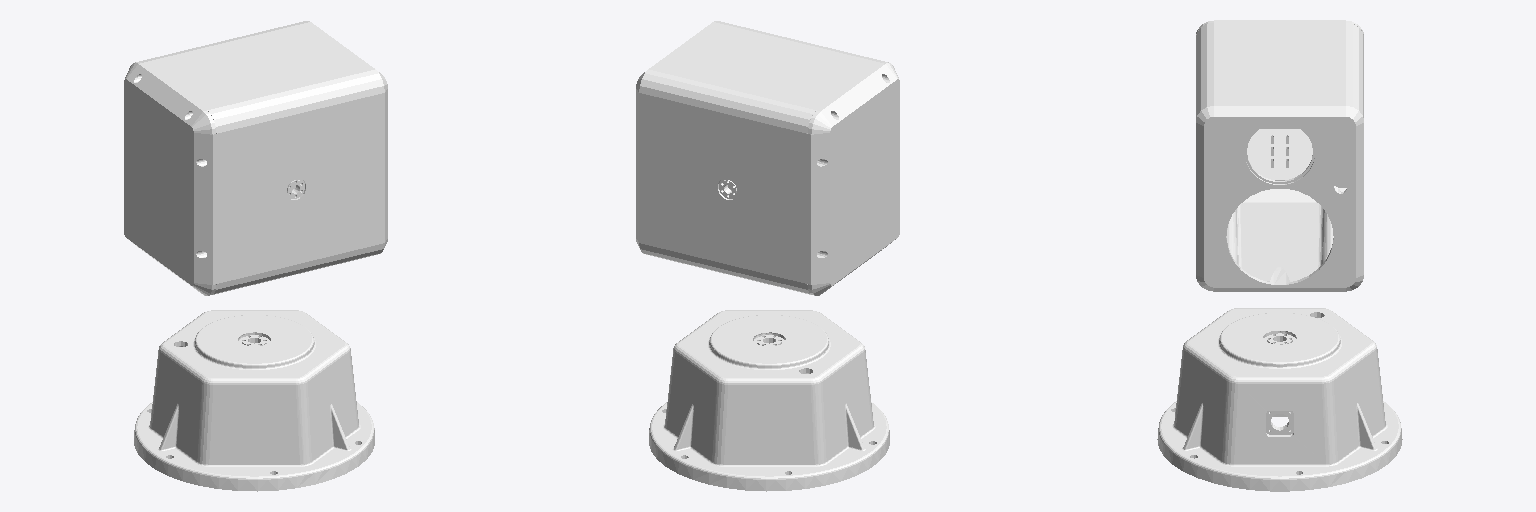
The robot description file, URDF, robot "u_shaped_gimbal":
<?xml version="1.0" encoding="utf-8"?>
<!-- This URDF was automatically created by SolidWorks to URDF Exporter! Originally created by [author] ([email redacted]) 
    Commit Version: 1.6.0-1-g15f4949  Build Version: 1.6.7594.29634
    For more information, please see http://wiki.ros.org/sw_urdf_exporter -->
<robot name="u_shaped_gimbal">
  <!-- 虚拟根节点 -->
  <link name="root_link"/>

  <!-- root_link 到 base_link 的固定关节 -->
  <joint name="root_to_base" type="fixed">
    <parent link="root_link"/>
    <child link="base_link"/>
    <!-- 绕 X 轴 +90°，再绕 Z 轴 +90° -->
    <origin xyz="0 0 0" rpy="1.5708 0 1.5708"/>
  </joint>
  <link name="base_link">
    <inertial>
      <origin xyz="-5.1149E-05 0.060823 -0.0052465" rpy="0 0 0" />
      <mass value="0.94384" />
      <inertia ixx="0.0055172" ixy="2.4725E-06" ixz="-3.088E-06" iyy="0.008072" iyz="4.4757E-05" izz="0.0055356" />
    </inertial>
    <visual>
      <origin xyz="0 0 0" rpy="0 0 0" />
      <geometry>
        <mesh filename="package://u_shaped_gimbal_description/meshes/base_link.STL" />
      </geometry>
      <material name="">
        <color rgba="1 1 1 1" />
      </material>
    </visual>
    <collision>
      <origin xyz="0 0 0" rpy="0 0 0" />
      <geometry>
        <mesh filename="package://u_shaped_gimbal_description/meshes/base_link.STL" />
      </geometry>
    </collision>
  </link>
  <link name="link_low">
    <inertial>
      <origin xyz="3.7576E-07 0.10889 4.3526E-05" rpy="0 0 0" />
      <mass value="1.7017" />
      <inertia ixx="0.01372" ixy="-2.5357E-06" ixz="4.585E-06" iyy="0.010361" iyz="2.6097E-06" izz="0.016475" />
    </inertial>
    <visual>
      <origin xyz="0 0 0" rpy="0 0 0" />
      <geometry>
        <mesh filename="package://u_shaped_gimbal_description/meshes/link_low.STL" />
      </geometry>
      <material name="">
        <color rgba="1 1 1 1" />
      </material>
    </visual>
    <collision>
      <origin xyz="0 0 0" rpy="0 0 0" />
      <geometry>
        <mesh filename="package://u_shaped_gimbal_description/meshes/link_low.STL" />
      </geometry>
    </collision>
  </link>
  <joint name="joint_low" type="continuous">
    <origin xyz="0 0.121 0" rpy="0 0 0" />
    <parent link="base_link" />
    <child link="link_low" />
    <axis xyz="0 1 0" />
  </joint>
  <link name="link_up">
    <inertial>
      <origin xyz="-7.4103E-05 0.0014057 0.0058493" rpy="0 0 0" />
      <mass value="2.2137" />
      <inertia ixx="0.021433" ixy="3.6375E-06" ixz="1.5475E-05" iyy="0.017841" iyz="-0.00011134" izz="0.023689" />
    </inertial>
    <visual>
      <origin xyz="0 0 0" rpy="0 0 0" />
      <geometry>
        <mesh filename="package://u_shaped_gimbal_description/meshes/link_up.STL" />
      </geometry>
      <material name="">
        <color rgba="1 1 1 1" />
      </material>
    </visual>
    <collision>
      <origin xyz="0 0 0" rpy="0 0 0" />
      <geometry>
        <mesh filename="package://u_shaped_gimbal_description/meshes/link_up.STL" />
      </geometry>
    </collision>
  </link>
  <joint name="joint_up" type="continuous">
    <origin xyz="0 0.216 0" rpy="0 0 0" />
    <parent link="link_low" />
    <child link="link_up" />
    <axis xyz="1 0 0" />
  </joint>
  <link name="link_middle">
    <inertial>
      <origin xyz="-7.7389E-19 0.018017 0.0039837" rpy="0 0 0" />
      <mass value="0.052872" />
      <inertia ixx="0.00010465" ixy="6.7864E-21" ixz="-1.8431E-20" iyy="0.00014676" iyz="-2.558E-06" izz="8.2918E-05" />
    </inertial>
    <visual>
      <origin xyz="0 0 0" rpy="0 0 0" />
      <geometry>
        <mesh filename="package://u_shaped_gimbal_description/meshes/link_middle.STL" />
      </geometry>
      <material name="">
        <color rgba="1 1 1 1" />
      </material>
    </visual>
    <collision>
      <origin xyz="0 0 0" rpy="0 0 0" />
      <geometry>
        <mesh filename="package://u_shaped_gimbal_description/meshes/link_middle.STL" />
      </geometry>
    </collision>
  </link>
  <joint name="joint_middle" type="fixed">
    <origin xyz="0 0.019 0.040277" rpy="0 0 0" />
    <parent link="link_up" />
    <child link="link_middle" />
    <axis xyz="0 0 0" />
  </joint>
  <link name="link_front">
    <inertial>
      <origin xyz="2.0026E-18 0.018017 -0.060739" rpy="0 0 0" />
      <mass value="0.052872" />
      <inertia ixx="0.00010465" ixy="1.1765E-20" ixz="-9.3597E-21" iyy="0.00014676" iyz="-2.558E-06" izz="8.2918E-05" />
    </inertial>
    <visual>
      <origin xyz="0 0 0" rpy="0 0 0" />
      <geometry>
        <mesh filename="package://u_shaped_gimbal_description/meshes/link_front.STL" />
      </geometry>
      <material name="">
        <color rgba="1 1 1 1" />
      </material>
    </visual>
    <collision>
      <origin xyz="0 0 0" rpy="0 0 0" />
      <geometry>
        <mesh filename="package://u_shaped_gimbal_description/meshes/link_front.STL" />
      </geometry>
    </collision>
  </link>
  <joint name="joint_front" type="fixed">
    <origin xyz="0 0.019 0.105" rpy="0 0 0" />
    <parent link="link_up" />
    <child link="link_front" />
    <axis xyz="0 0 0" />
  </joint>
</robot>

--- Render facts (derived) ---
Views: 3 orthographic renders of the robot side by side, from view 1: azimuth 30°, elevation 25°; view 2: azimuth 150°, elevation 25°; view 3: azimuth 270°, elevation 25°.
Robot: u_shaped_gimbal — 6 links, 5 joints (2 continuous, 3 fixed); root link root_link; default pose: all joints at 0.
Links seen in each view (by area): view 1: link_up, base_link; view 2: link_up, base_link; view 3: link_up, base_link, link_middle.
Boxes of the visible links, x1=… form: link_up: x1=124, y1=21, x2=387, y2=295; base_link: x1=134, y1=310, x2=374, y2=491; link_up: x1=636, y1=21, x2=899, y2=295; base_link: x1=649, y1=310, x2=889, y2=491; link_up: x1=1196, y1=20, x2=1363, y2=291; base_link: x1=1157, y1=308, x2=1402, y2=491; link_middle: x1=1247, y1=129, x2=1311, y2=176.
Size in the robot's own frame: 0.2619 by 0.2628 by 0.447 metres.
4 mesh visuals loaded from 5 distinct referenced files (4 binary STL); not drawn: 1 (reference not matched to a file when rendering).
